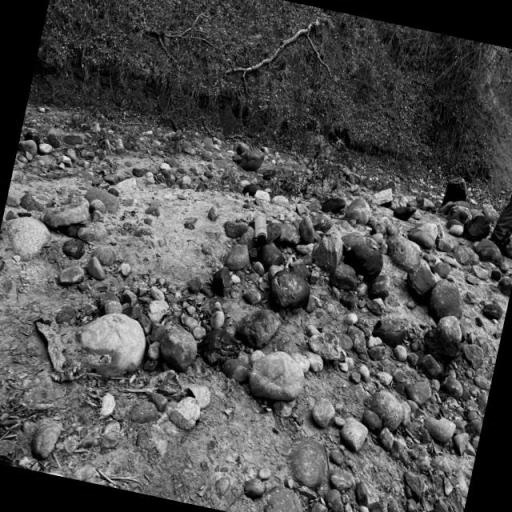bottle: (250, 215, 271, 245)
